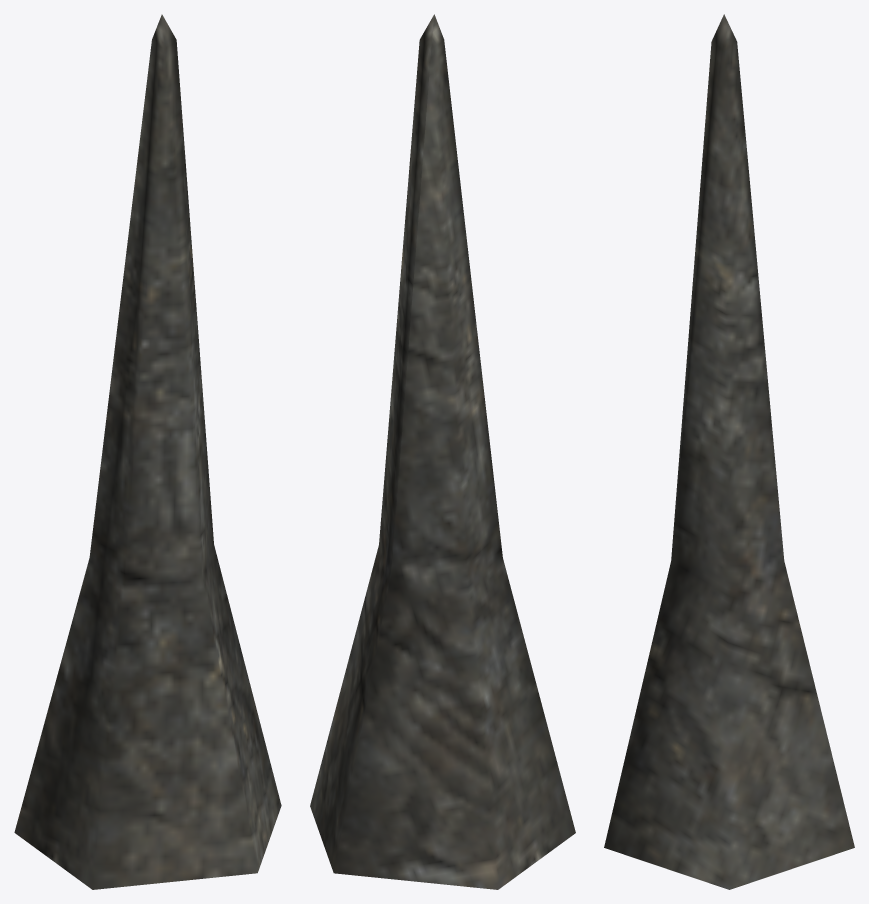
File: Stal8_LOD1.fbx
3 views of the same model, side by side, from view 1: azimuth 30°, elevation 25°; view 2: azimuth 150°, elevation 25°; view 3: azimuth 270°, elevation 25° (orthographic).
Visible parts, largest first — view 1: pCylinder26; view 2: pCylinder26; view 3: pCylinder26.
Part boxes in pixels (bbox=[...]): pCylinder26: bbox=[14, 14, 281, 889]; pCylinder26: bbox=[310, 14, 575, 889]; pCylinder26: bbox=[604, 14, 854, 889].
Size of the model in its own units: 0.8833 by 3.05 by 0.8488.
